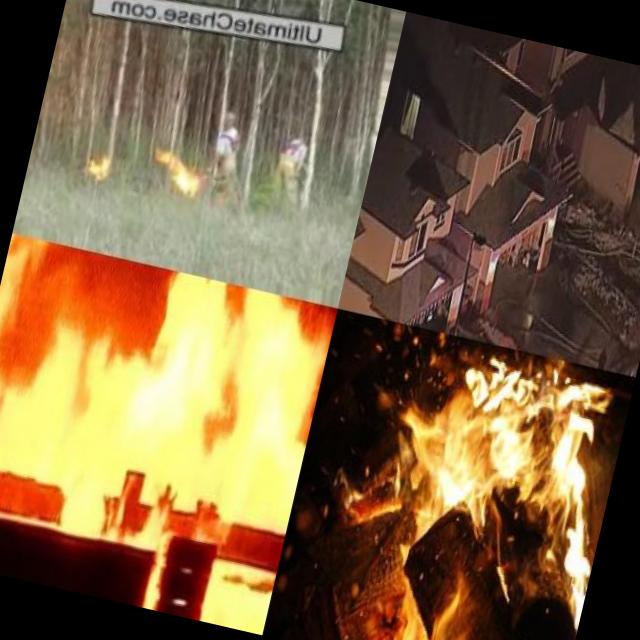fire: (0, 233, 337, 532), (343, 335, 633, 640), (148, 143, 210, 198), (81, 146, 118, 186)
